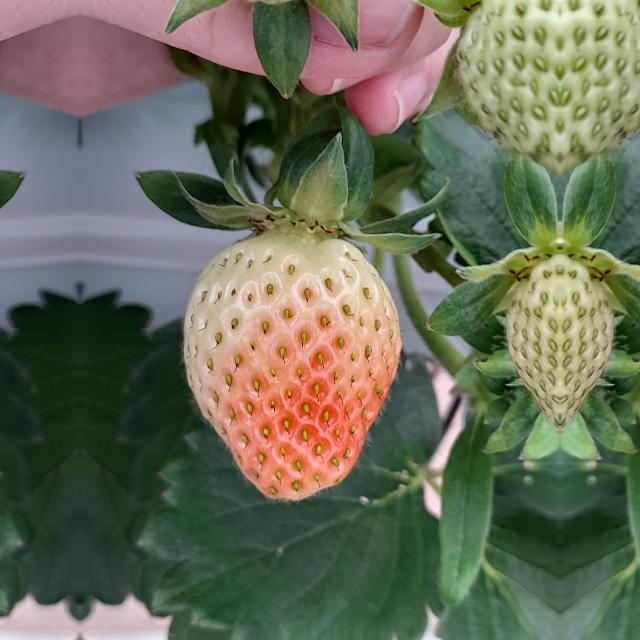Health_75: (184, 233, 400, 502)
